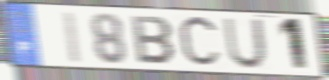1: (277, 17, 310, 75)
8: (90, 12, 129, 66)
B: (130, 14, 178, 67)
C: (176, 13, 223, 71)
I: (61, 10, 84, 65)
U: (222, 17, 268, 71)
